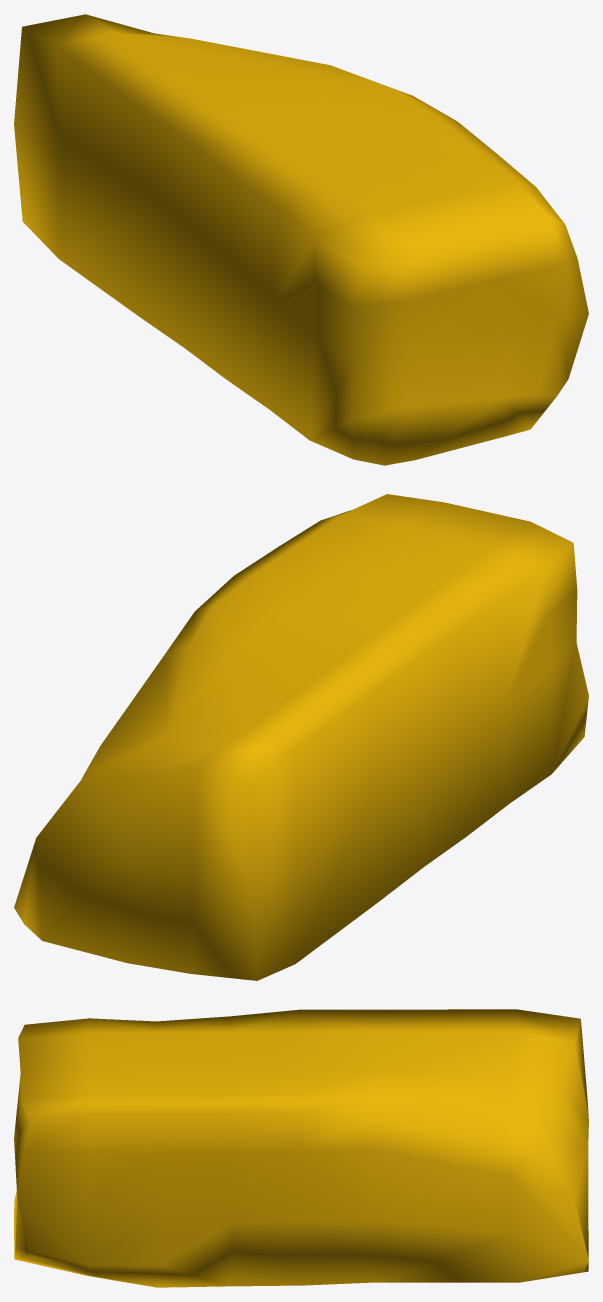
File: Stone_Block_01_Lod0.fbx
3 renders of one model, top to bottom at view 1: azimuth 30°, elevation 25°; view 2: azimuth 150°, elevation 25°; view 3: azimuth 270°, elevation 25°, orthographic. The views are drawn at different scales.
Visible parts, largest first — view 1: Stone_Block_01_Lod0; view 2: Stone_Block_01_Lod0; view 3: Stone_Block_01_Lod0.
Part boxes in pixels (x1,y1,x2,y2): Stone_Block_01_Lod0: (14, 14, 588, 465); Stone_Block_01_Lod0: (14, 494, 588, 980); Stone_Block_01_Lod0: (14, 1009, 588, 1287).
Size of the model in its own units: 624 by 535 by 1532.
